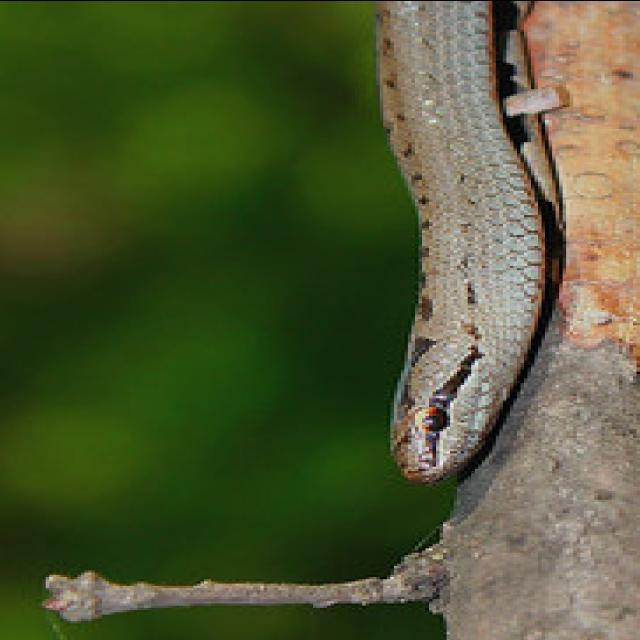Snake: (288, 0, 562, 486)
